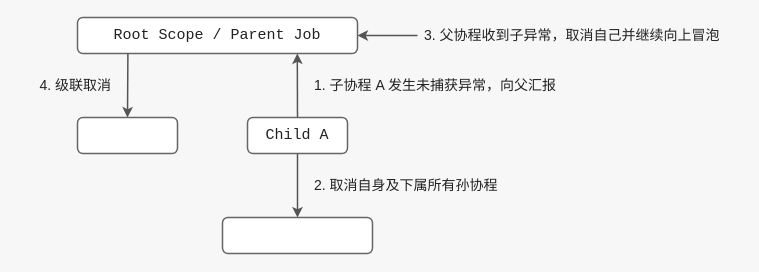
This 759x272 diagram has some shape labels left out. The box of each missing label's shape, as (x1, y1, x2, y2) in pixels:
Child B: (76, 116, 178, 154)
Grandchild A1: (221, 216, 373, 254)
